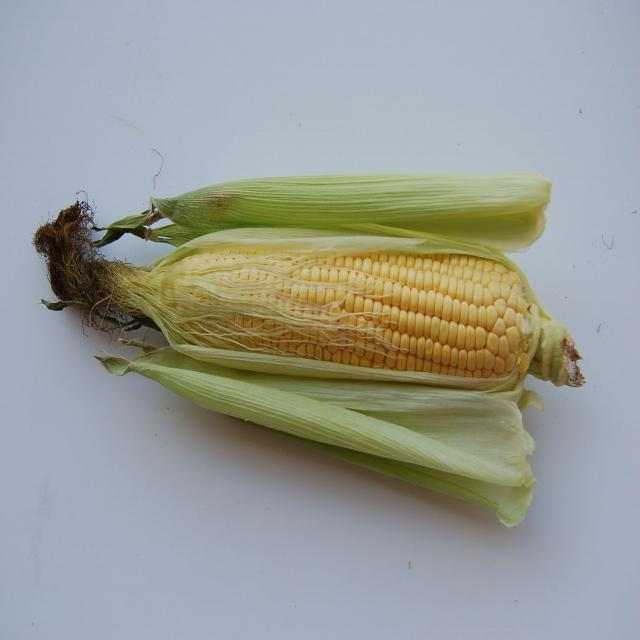Corn ear: (176, 242, 534, 379)
